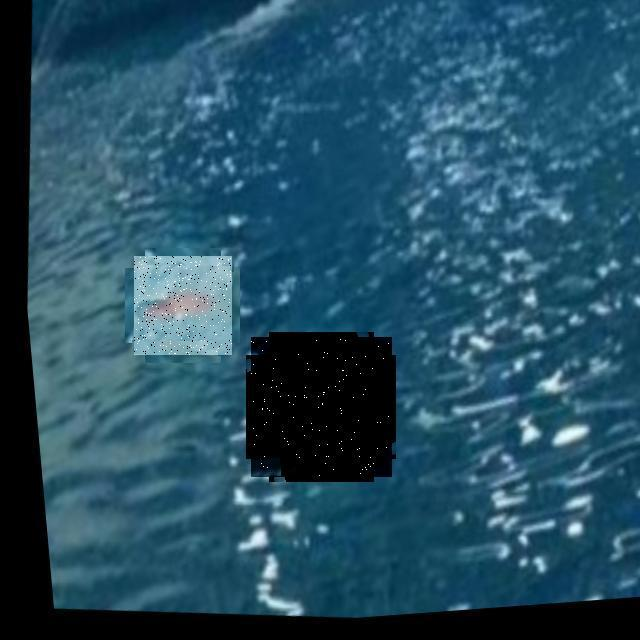swimming: (251, 337, 392, 477), (134, 256, 232, 355)
